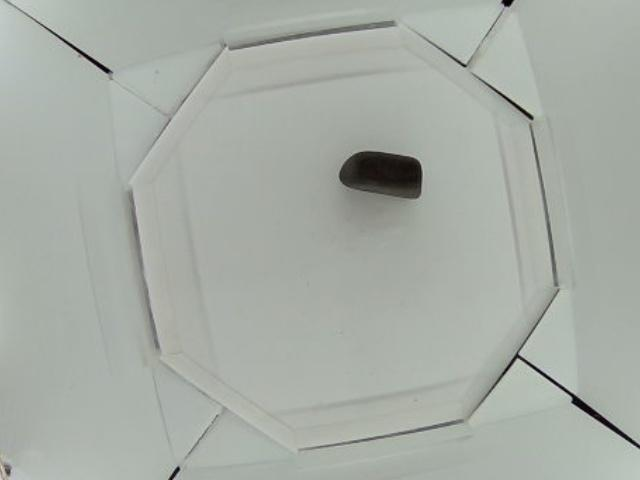Pebble: (339, 151, 426, 196)
